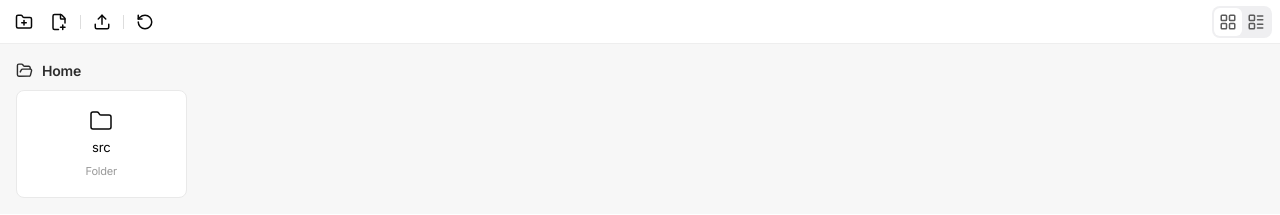
WorkspacePanel › renders current folder as a styled (non-button) trailing crumb
Double-click the element with class "file-card".
double_click(101, 144)  # box [16,90,187,198]
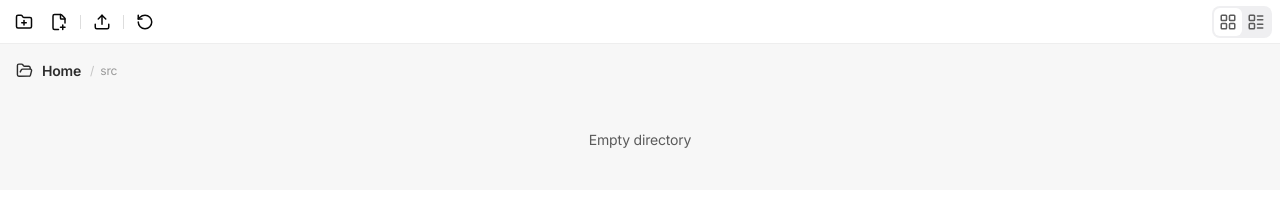
Expected: the button with class "crumb-btn" reads "src", [100,62,117,78]
Now the number of buttons with class "crumb-btn" is 1, box [100,62,117,78]
